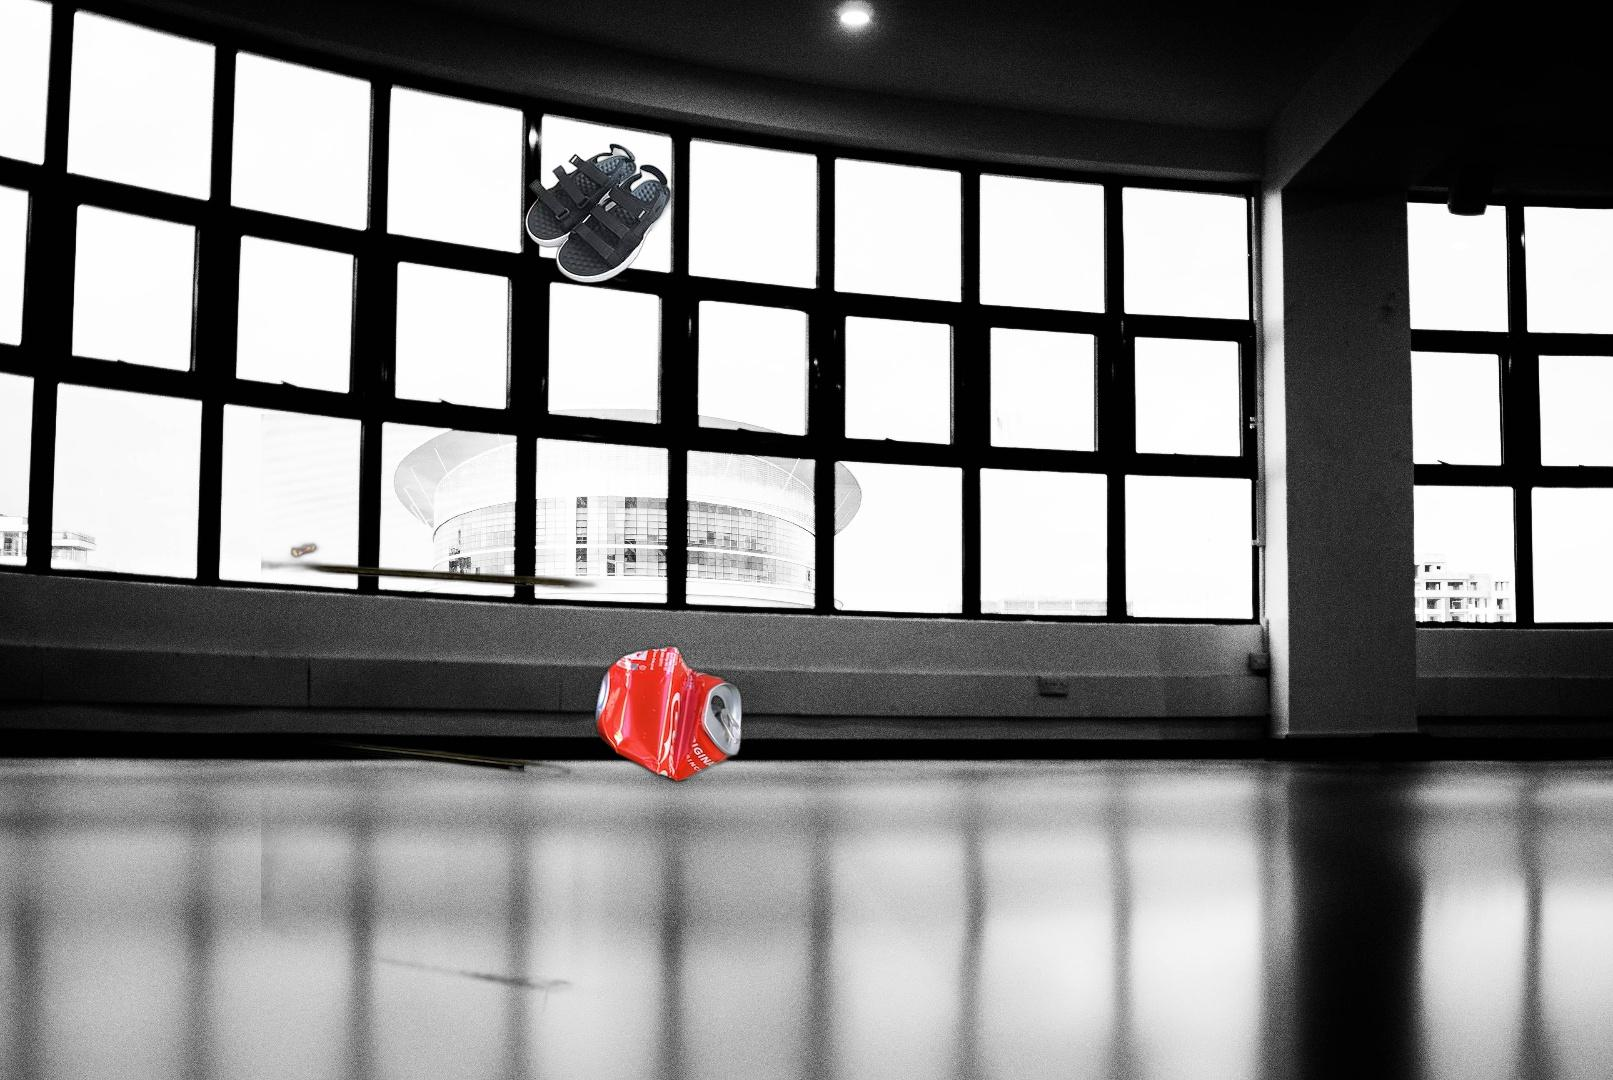metal-cans: (262, 413, 773, 1080)
shoes: (522, 141, 674, 286)
